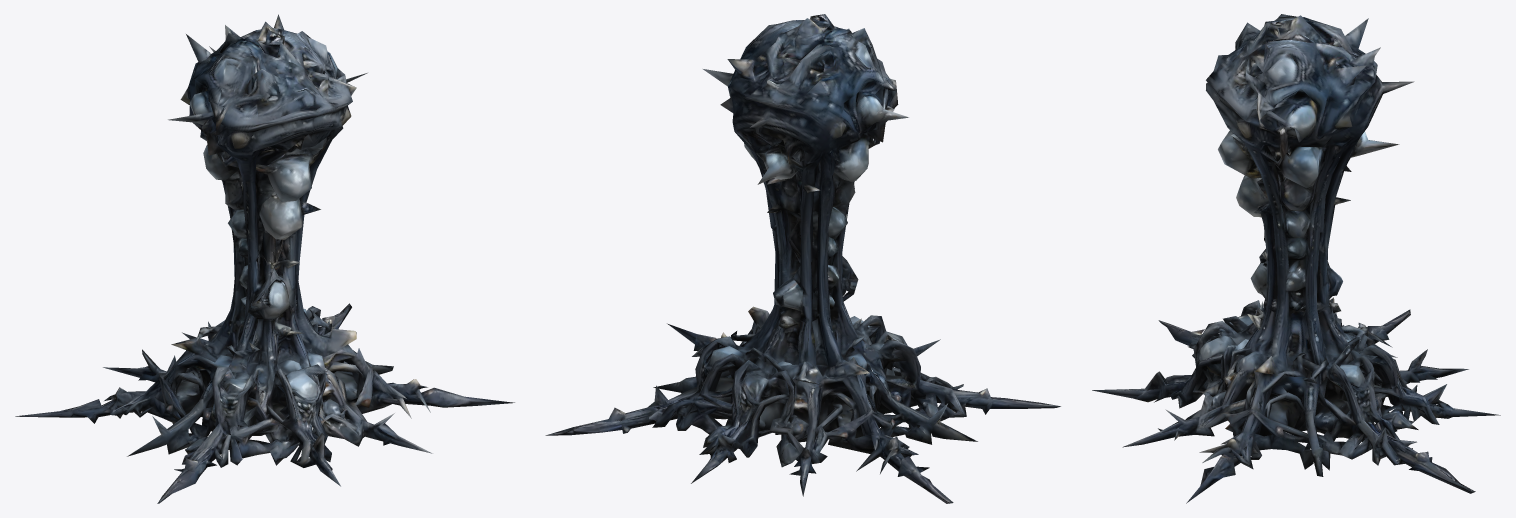
The model's file is spire.glb.
3 views of the same model, side by side, from view 1: azimuth 30°, elevation 25°; view 2: azimuth 150°, elevation 25°; view 3: azimuth 270°, elevation 25° (orthographic). The views are drawn at different scales.
Parts seen in each view (by area): view 1: node_c61d2fb0-21ee-46d1-b9de-97b45deb978b; view 2: node_c61d2fb0-21ee-46d1-b9de-97b45deb978b; view 3: node_c61d2fb0-21ee-46d1-b9de-97b45deb978b.
Boxes of the visible parts, x1=… form: node_c61d2fb0-21ee-46d1-b9de-97b45deb978b: x1=15, y1=14, x2=514, y2=503; node_c61d2fb0-21ee-46d1-b9de-97b45deb978b: x1=545, y1=14, x2=1060, y2=503; node_c61d2fb0-21ee-46d1-b9de-97b45deb978b: x1=1092, y1=14, x2=1500, y2=503.
Size of the model in its own units: 1 by 0.9593 by 0.897.
Materials: 1 (1 with a texture image).
